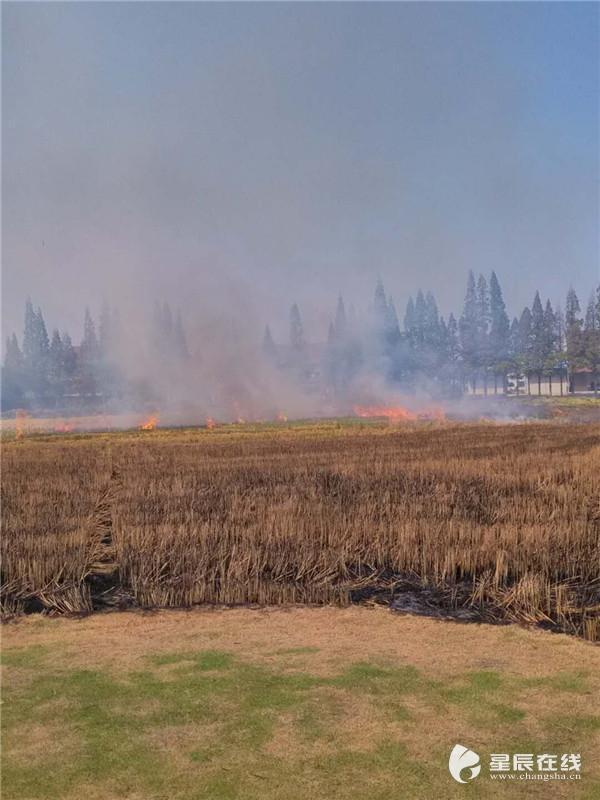fire: (352, 391, 439, 433), (132, 399, 159, 429), (202, 402, 220, 429)
